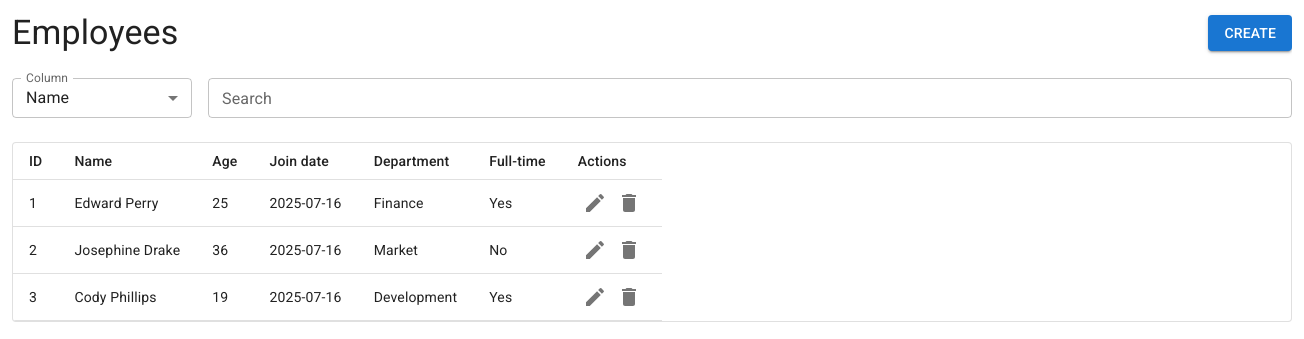
Test: EmployeeListPage › 初期列の Name で検索語を絞り込む
Expected: the cell "Edward Perry" is shown, [58,180,196,226]
Type "drake" into the field labelled "Search".
click(750, 98); type("drake")  # box [208,78,1292,118]
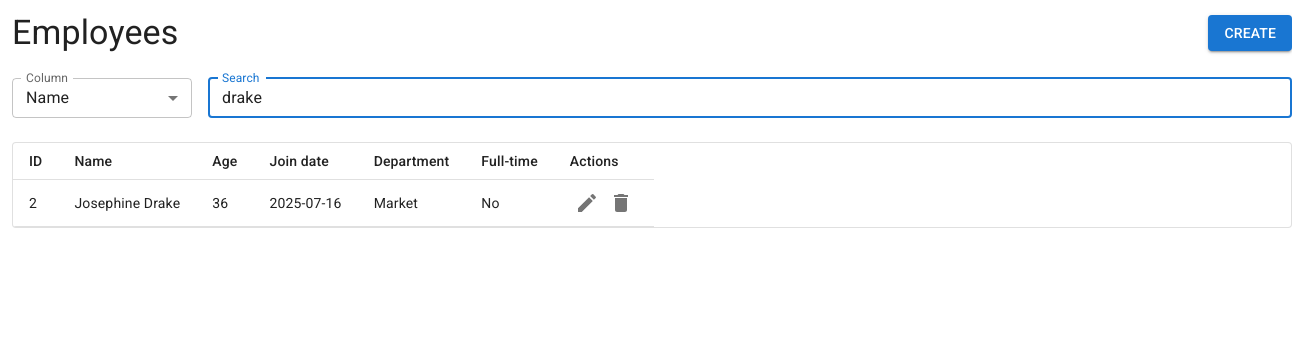
Expected: the cell "Josephine Drake" is shown, [58,180,196,226]
Now the cell "Edward Perry" is gone
Now the cell "Cody Phillips" is gone
